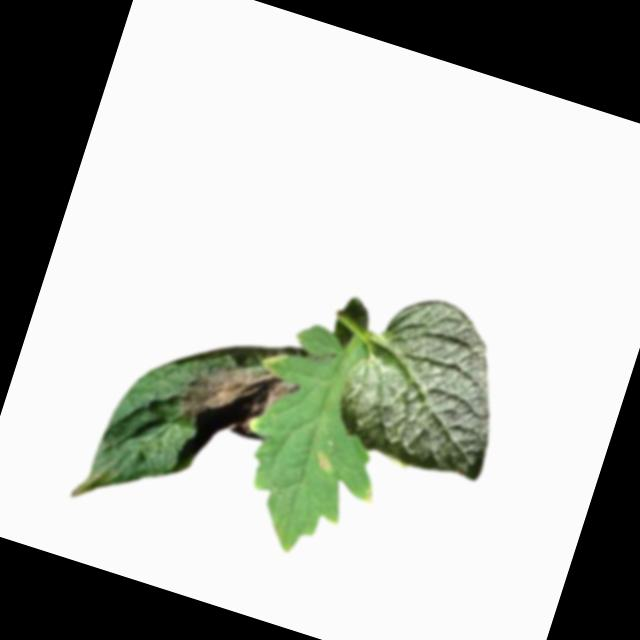Late_blight: (173, 348, 300, 449), (260, 348, 288, 374), (313, 451, 335, 473), (359, 484, 378, 507)
healthy: (327, 280, 528, 488)
